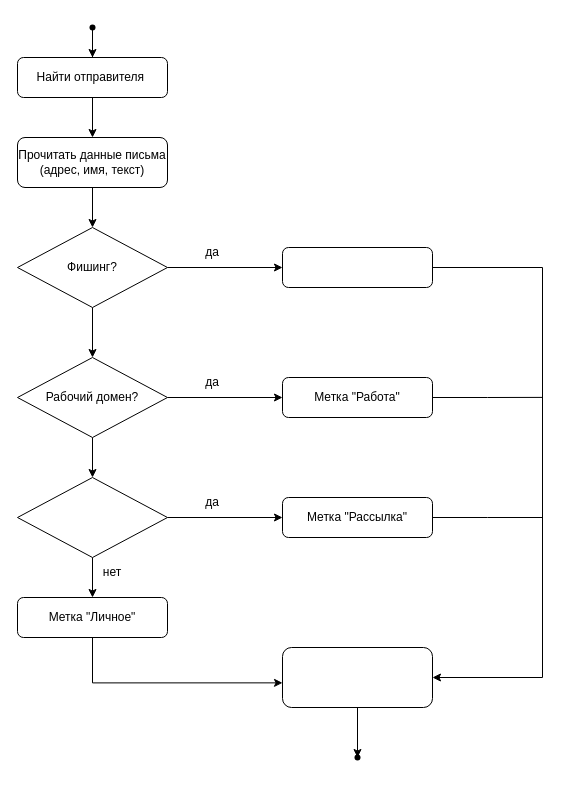
Some shapes in this 568 by 785 pixel diagram are drawn without their labels. The centre of each missing label's shape, as x and y in pixels:
Метка "Подозрительное": the point at 357,267
Появление метки рядом с отправителем: the point at 357,677
Рассылка?: the point at 92,517
